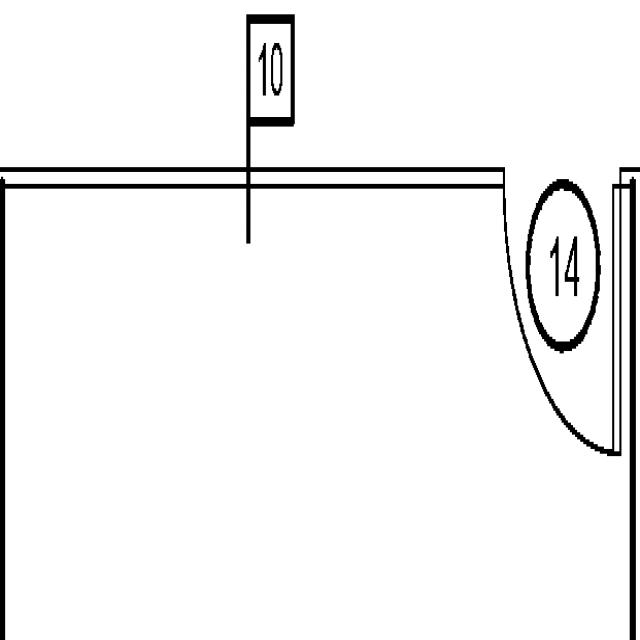Doors: (499, 164, 624, 466)
